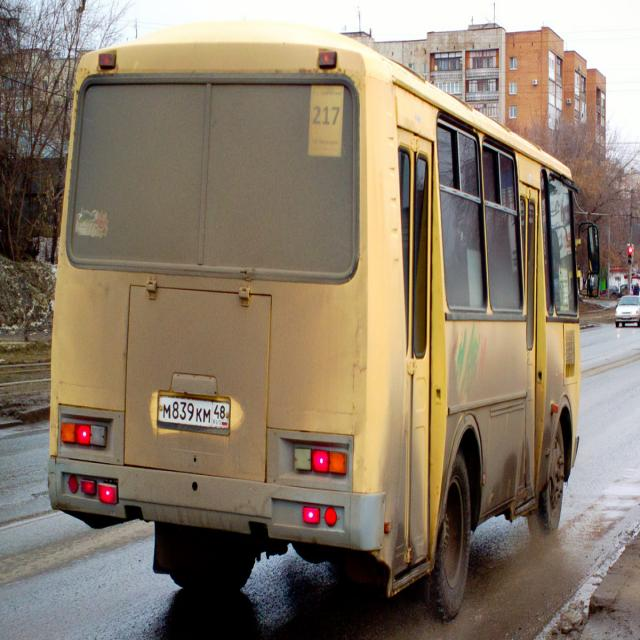number-of-bus: (311, 100, 346, 133)
